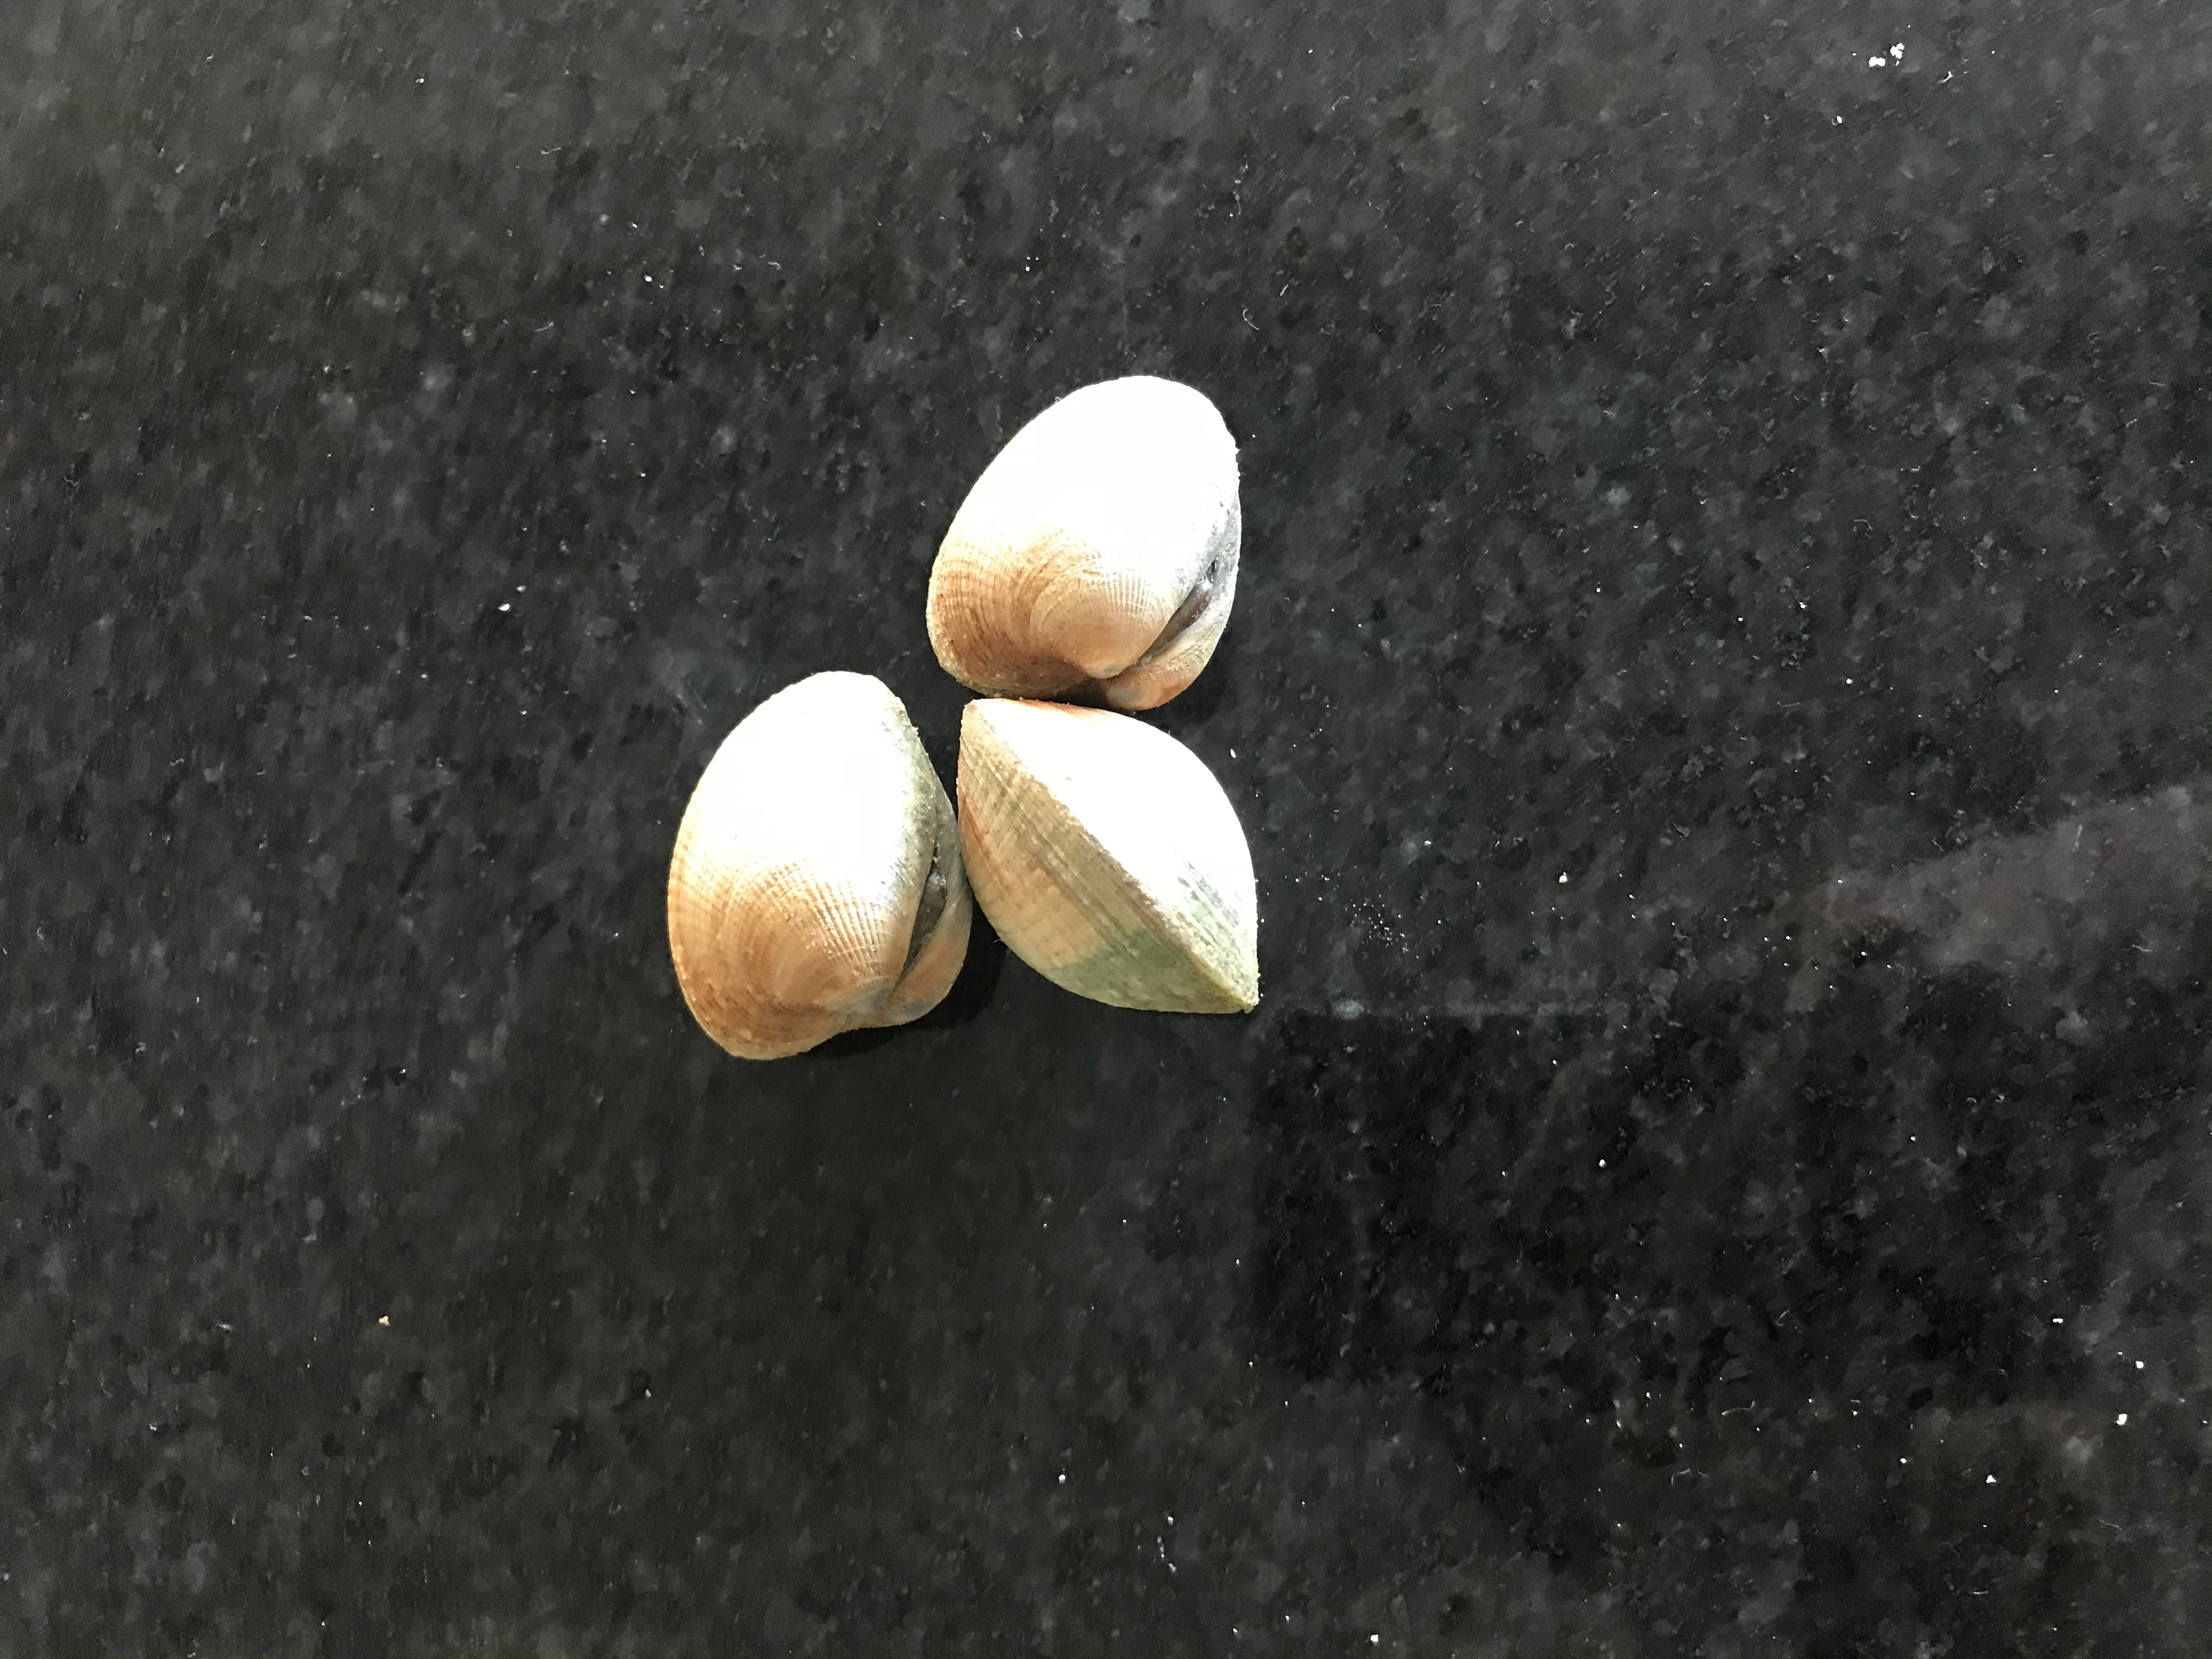cockle: (658, 669, 977, 1061), (923, 371, 1247, 709), (946, 690, 1275, 1021)
